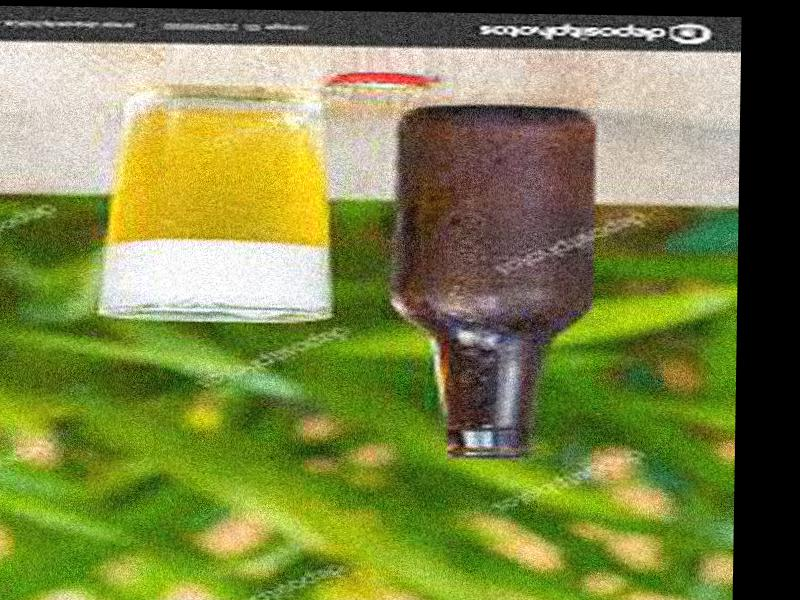Beer: (392, 102, 586, 457)
